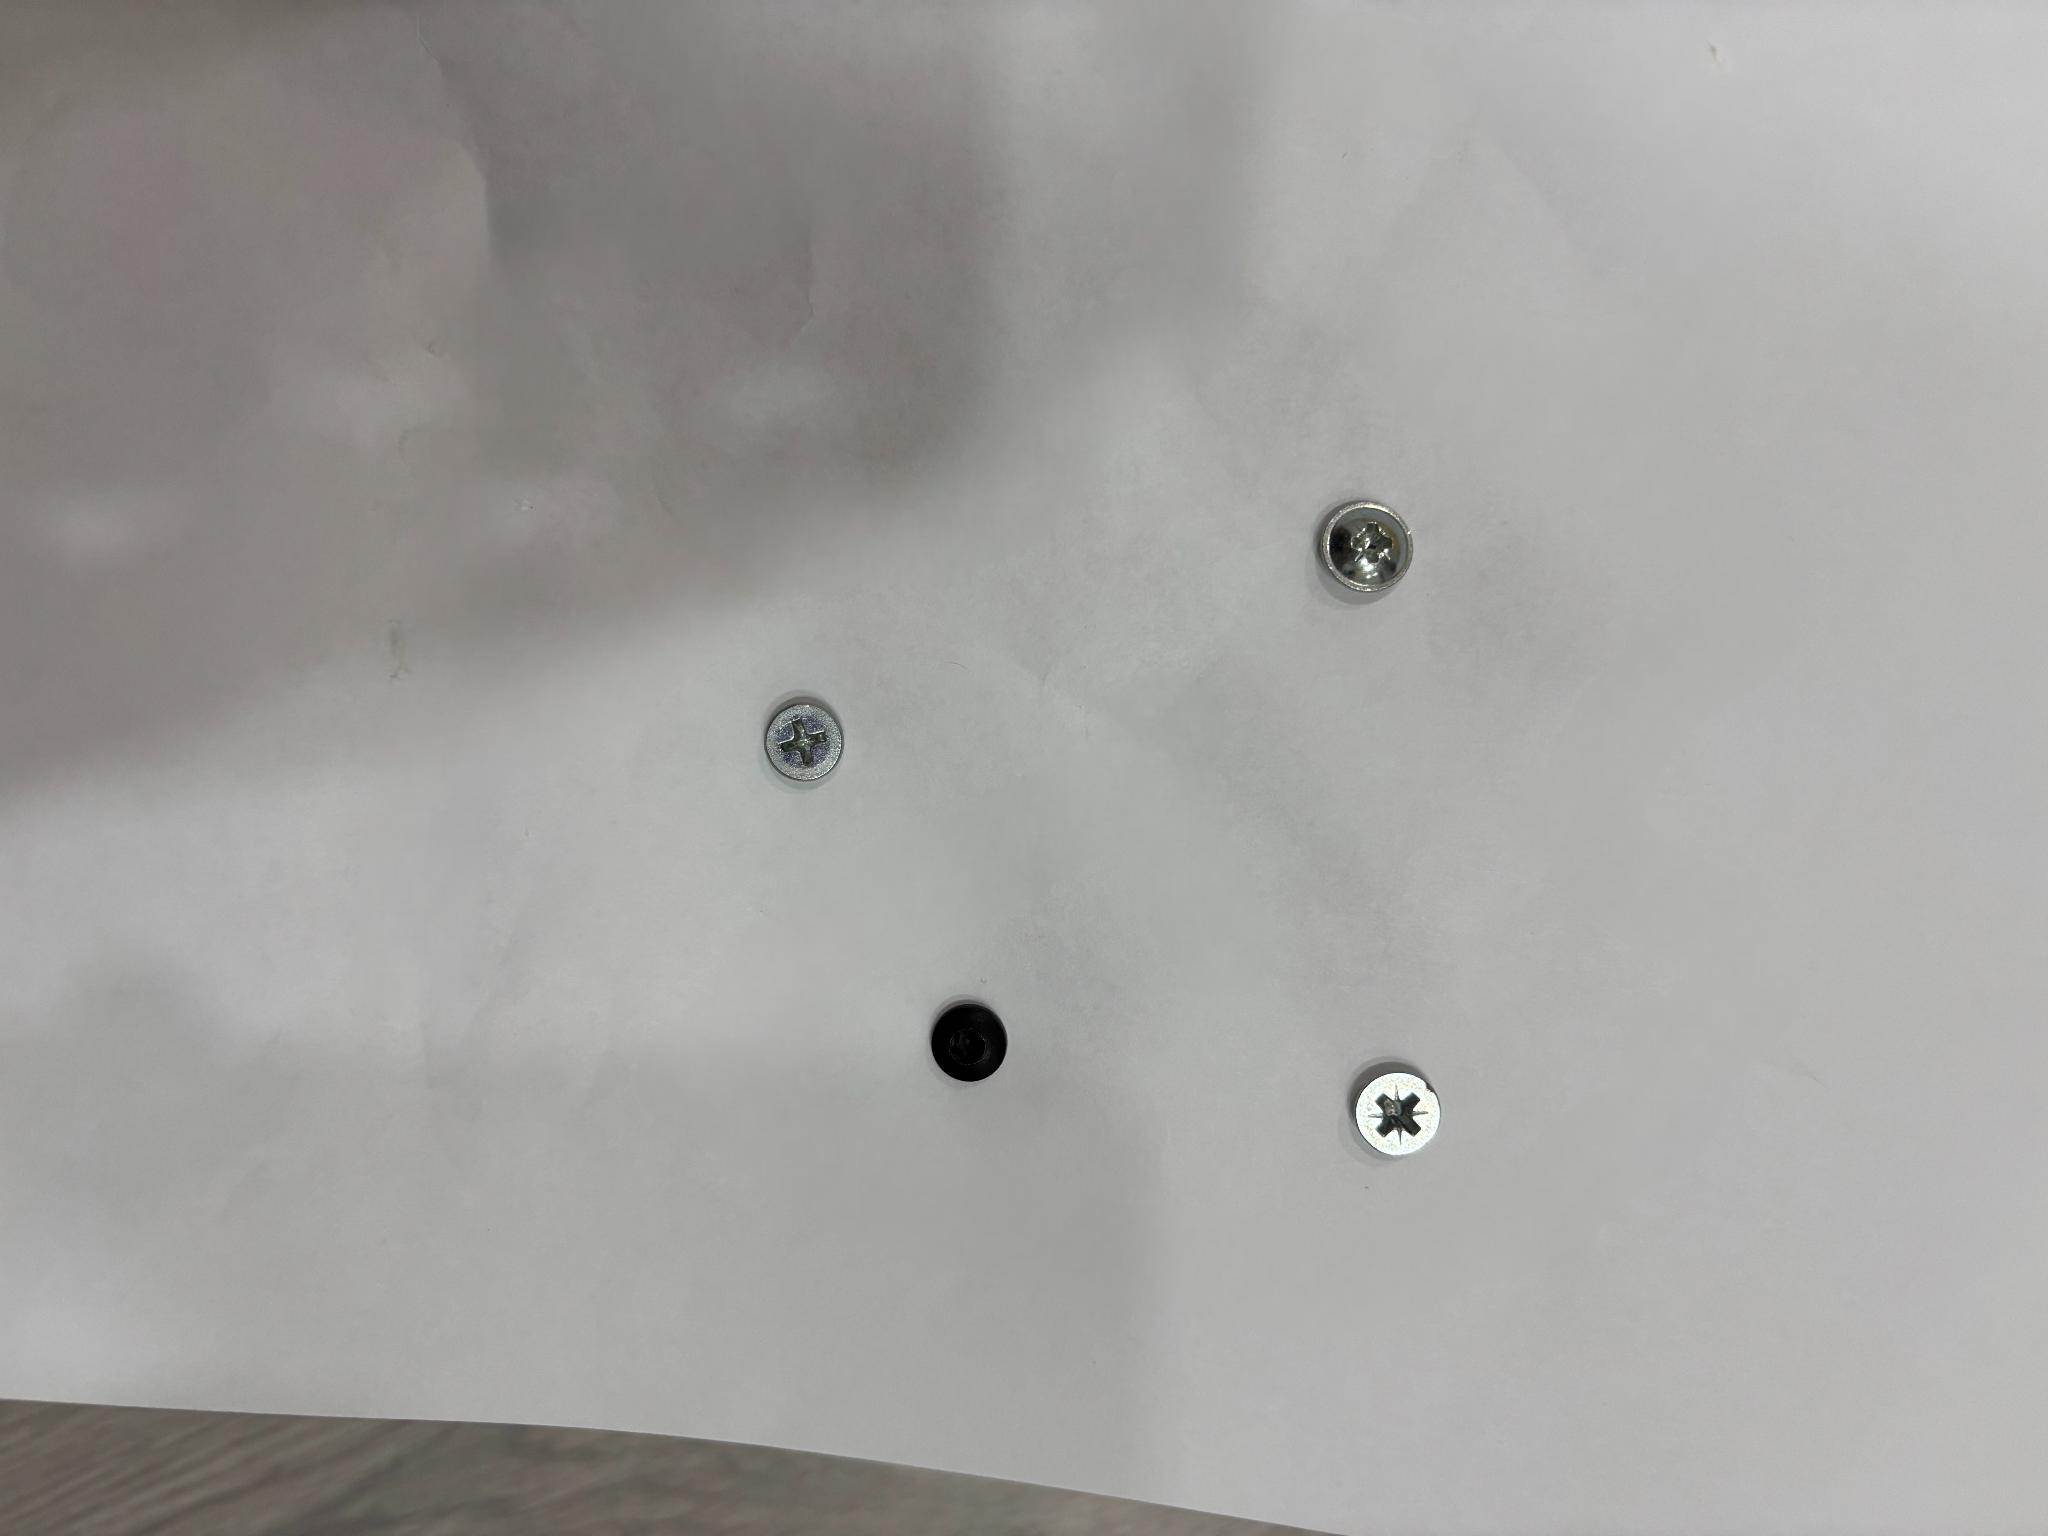H: (930, 1000, 1008, 1081)
PH: (763, 699, 843, 783)
PZ: (1317, 502, 1413, 594), (1355, 1071, 1440, 1155)
